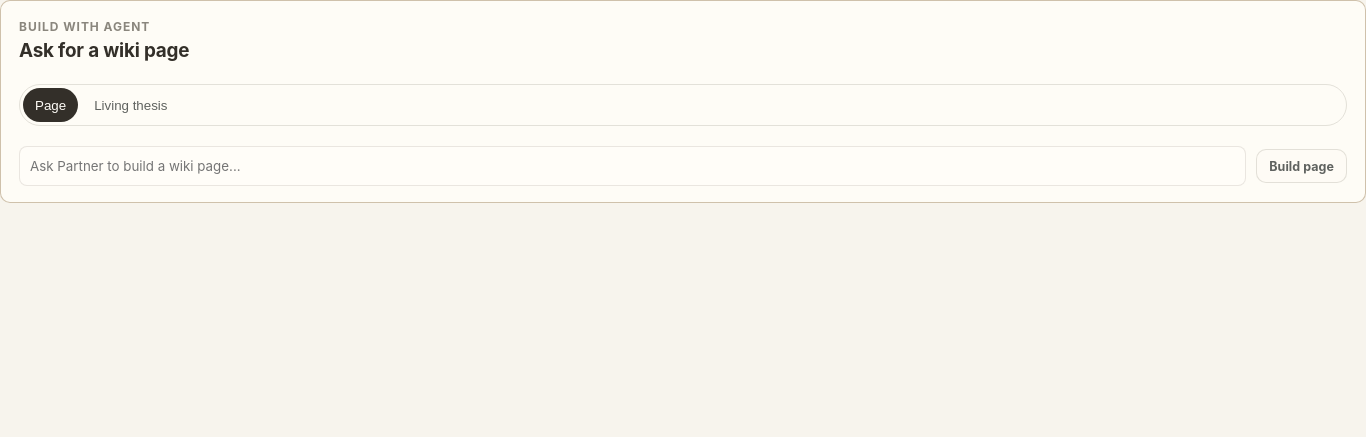
Test: WikiBuildPageComposer › creates an overview page and opens the workspace page for agent drafting
The width and height of the screenshot is (1366, 437).
Type "Portfolio Concentration" into the field named "Wiki page to build".
click(633, 166); type("Portfolio Concentration")  # box [19,146,1246,186]
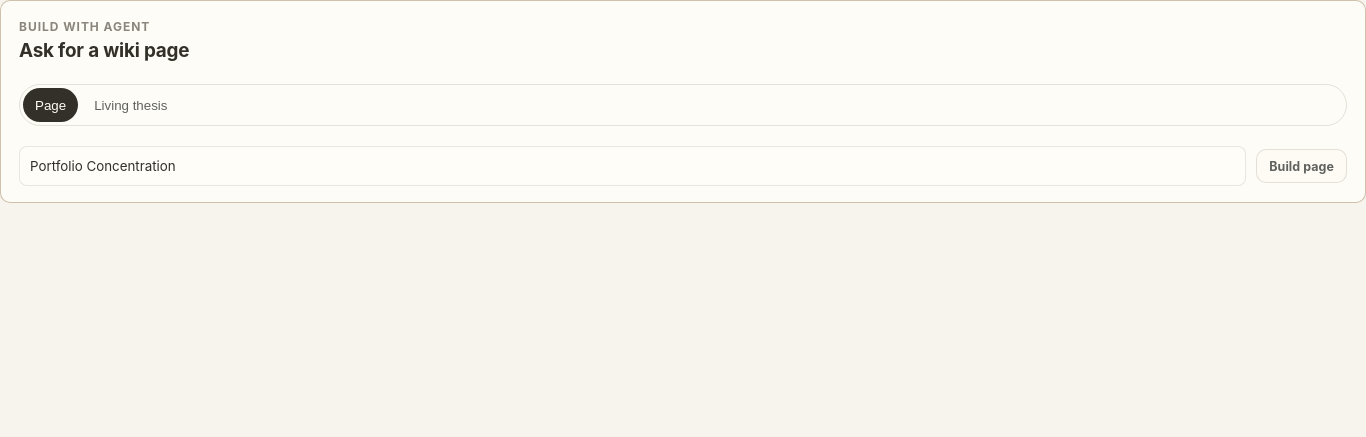
Click the button "Build page".
click(1302, 166)  # box [1256,149,1347,183]
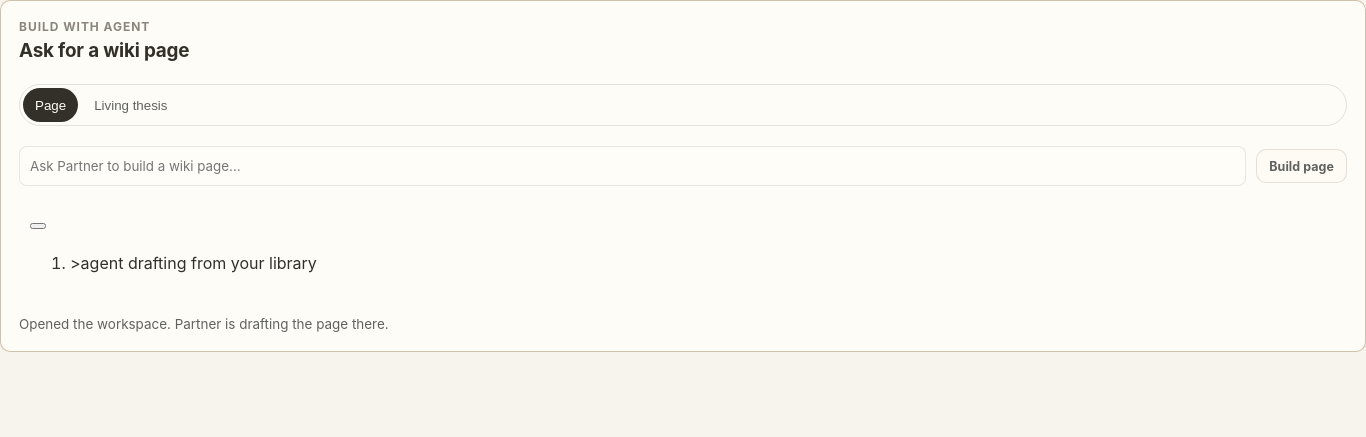
Click the button named "Expand 2 trace history lines".
click(38, 226)  # box [30,223,46,229]
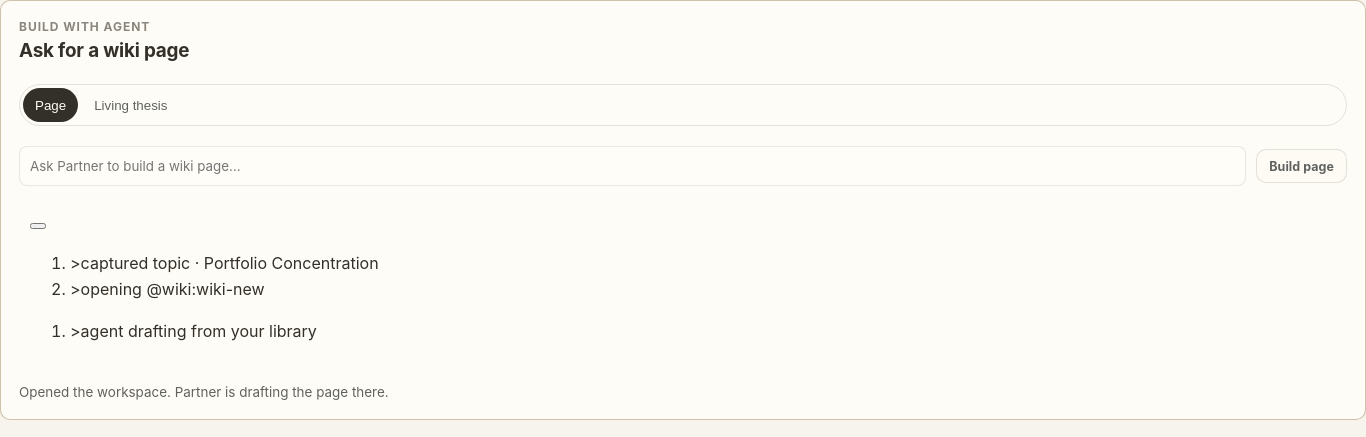
Expected: the element named "Wiki build trace" shows "agent drafting from your library", [81,321,317,341]
Expected: the element named "Wiki build trace" shows "captured topic · Portfolio Concentration", [81,252,379,272]
Expected: the element named "Wiki build trace" shows "opening @wiki:wiki-new", [81,279,265,299]
